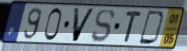0: (43, 7, 64, 42)
9: (22, 7, 42, 41)
D: (137, 9, 166, 47)
S: (90, 8, 116, 44)
T: (123, 10, 143, 44)
V: (71, 6, 97, 43)
